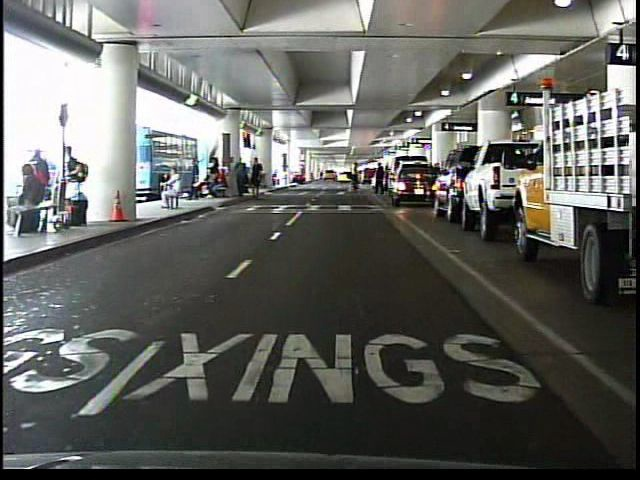person: (156, 168, 186, 214), (344, 160, 366, 195), (370, 158, 388, 200), (188, 156, 203, 203)
